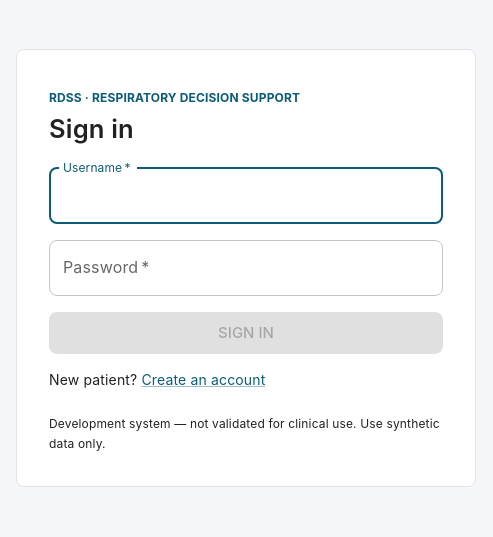
LoginPage › shows the generic backend error on failed login
In the field labelled "Username *": [246, 196] box [49, 168, 443, 224], type "someone"
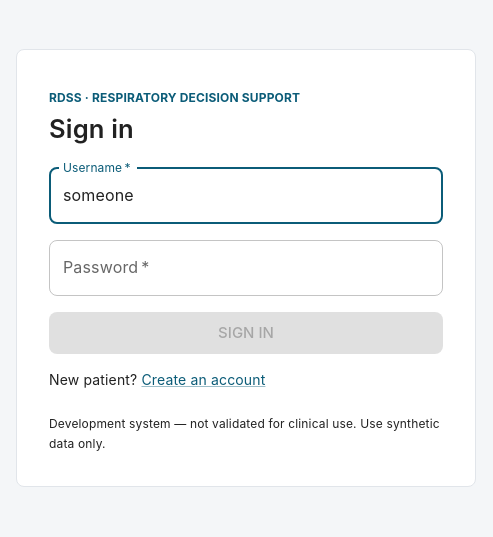
In the password field labelled "Password *": [246, 268] box [49, 240, 443, 296], type "bad-password-1"
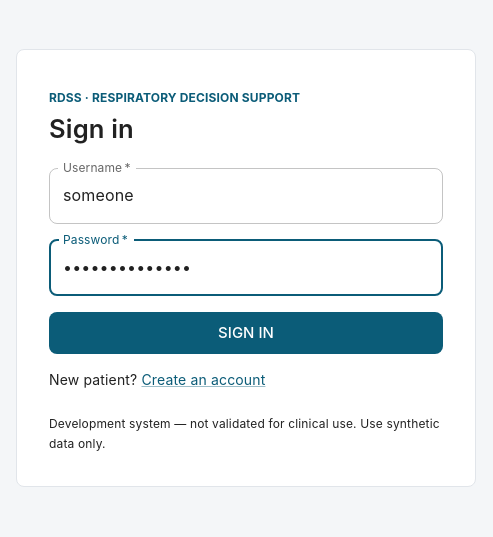
Click the button "Sign in": [246, 333] box [49, 312, 443, 354]
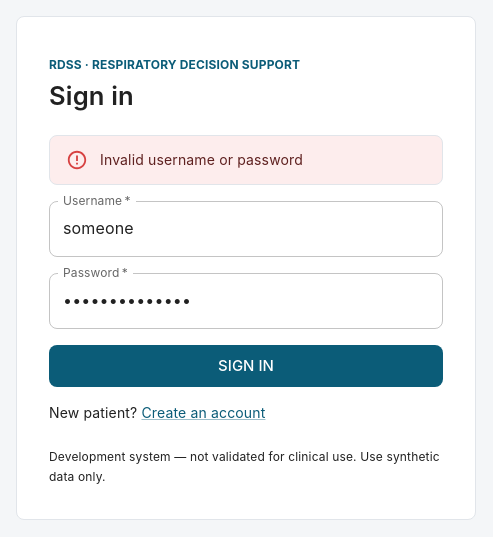
expect the text "Invalid username or password" is shown: met, box [100, 151, 303, 168]
